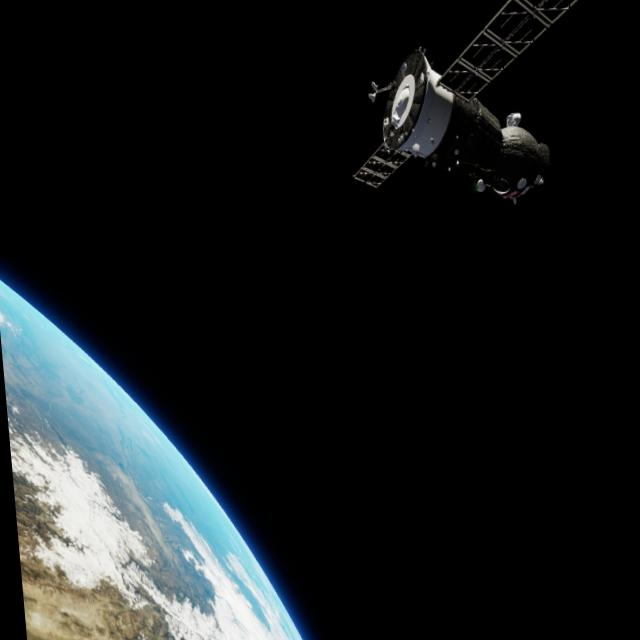Satellites revolving around earth: (0, 249, 304, 640), (334, 0, 609, 220)
